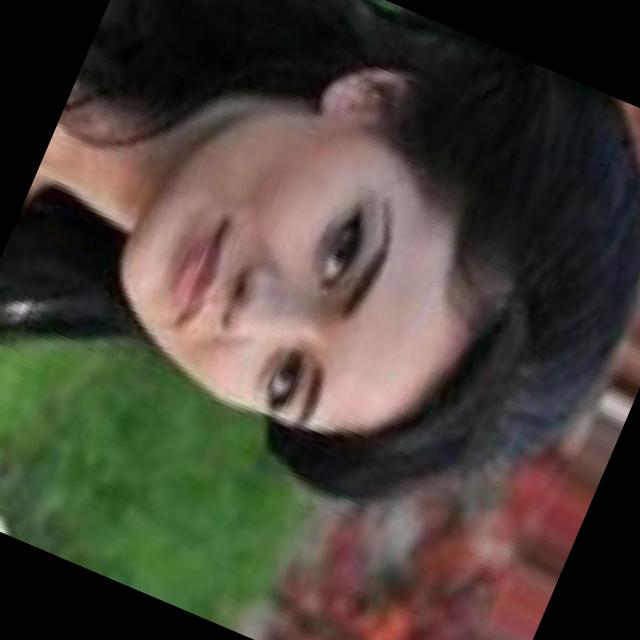bareface: (71, 16, 604, 518)
